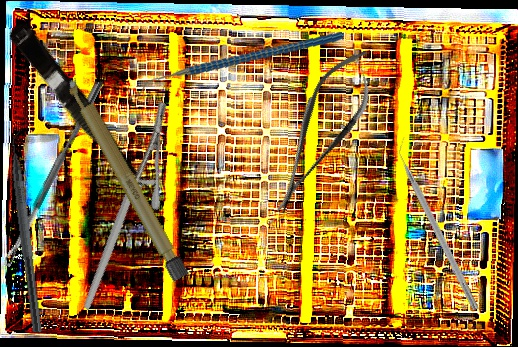Chopper: (136, 11, 344, 118), (390, 135, 489, 312), (3, 120, 57, 334)
Micro Scissor: (1, 18, 163, 209), (252, 38, 391, 225)
Needle Holder: (26, 99, 222, 311)
Scalpel Handle: (63, 75, 191, 282)
Surgical Spoon: (1, 77, 105, 268)
